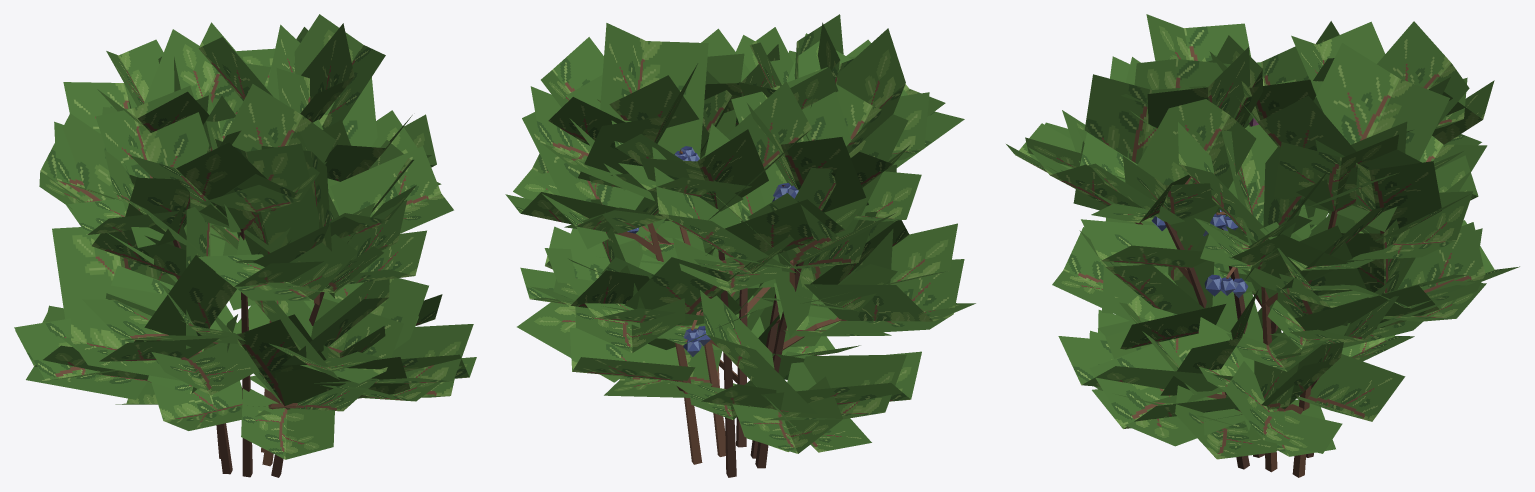
Rendered from blueberry_bush1.fbx.
3 renders of one model, left to right at view 1: azimuth 30°, elevation 25°; view 2: azimuth 150°, elevation 25°; view 3: azimuth 270°, elevation 25°, orthographic. The views are drawn at different scales.
Visible parts, largest first — view 1: blueberry_bush1; view 2: blueberry_bush1; view 3: blueberry_bush1.
Boxes of the visible parts, left/top/right/bottom form: blueberry_bush1: left=14, top=14, right=476, bottom=477; blueberry_bush1: left=505, top=14, right=975, bottom=477; blueberry_bush1: left=1006, top=14, right=1519, bottom=477.
Size of the model in its own units: 80.55 by 81.28 by 90.
